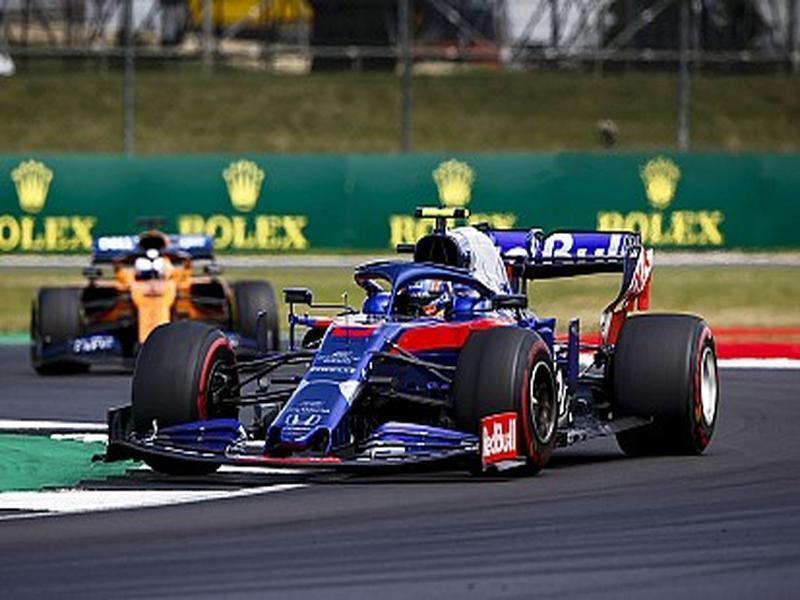f1: (153, 192, 710, 500), (28, 223, 297, 390)
